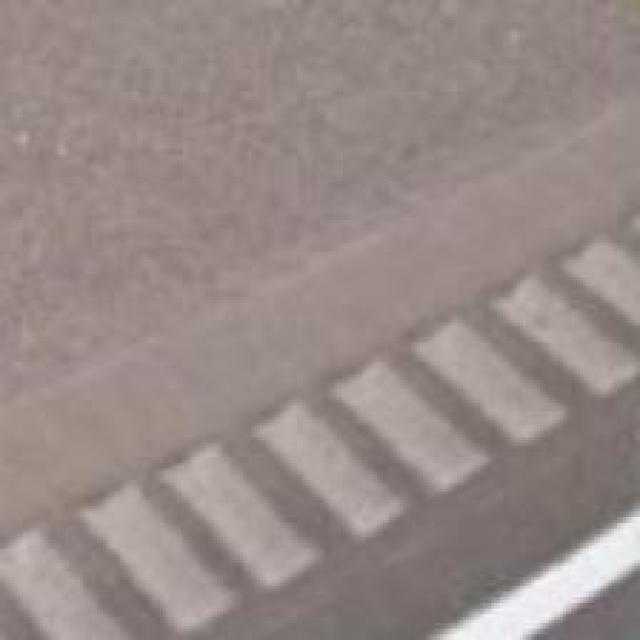walk-crossing: (15, 272, 636, 634)
